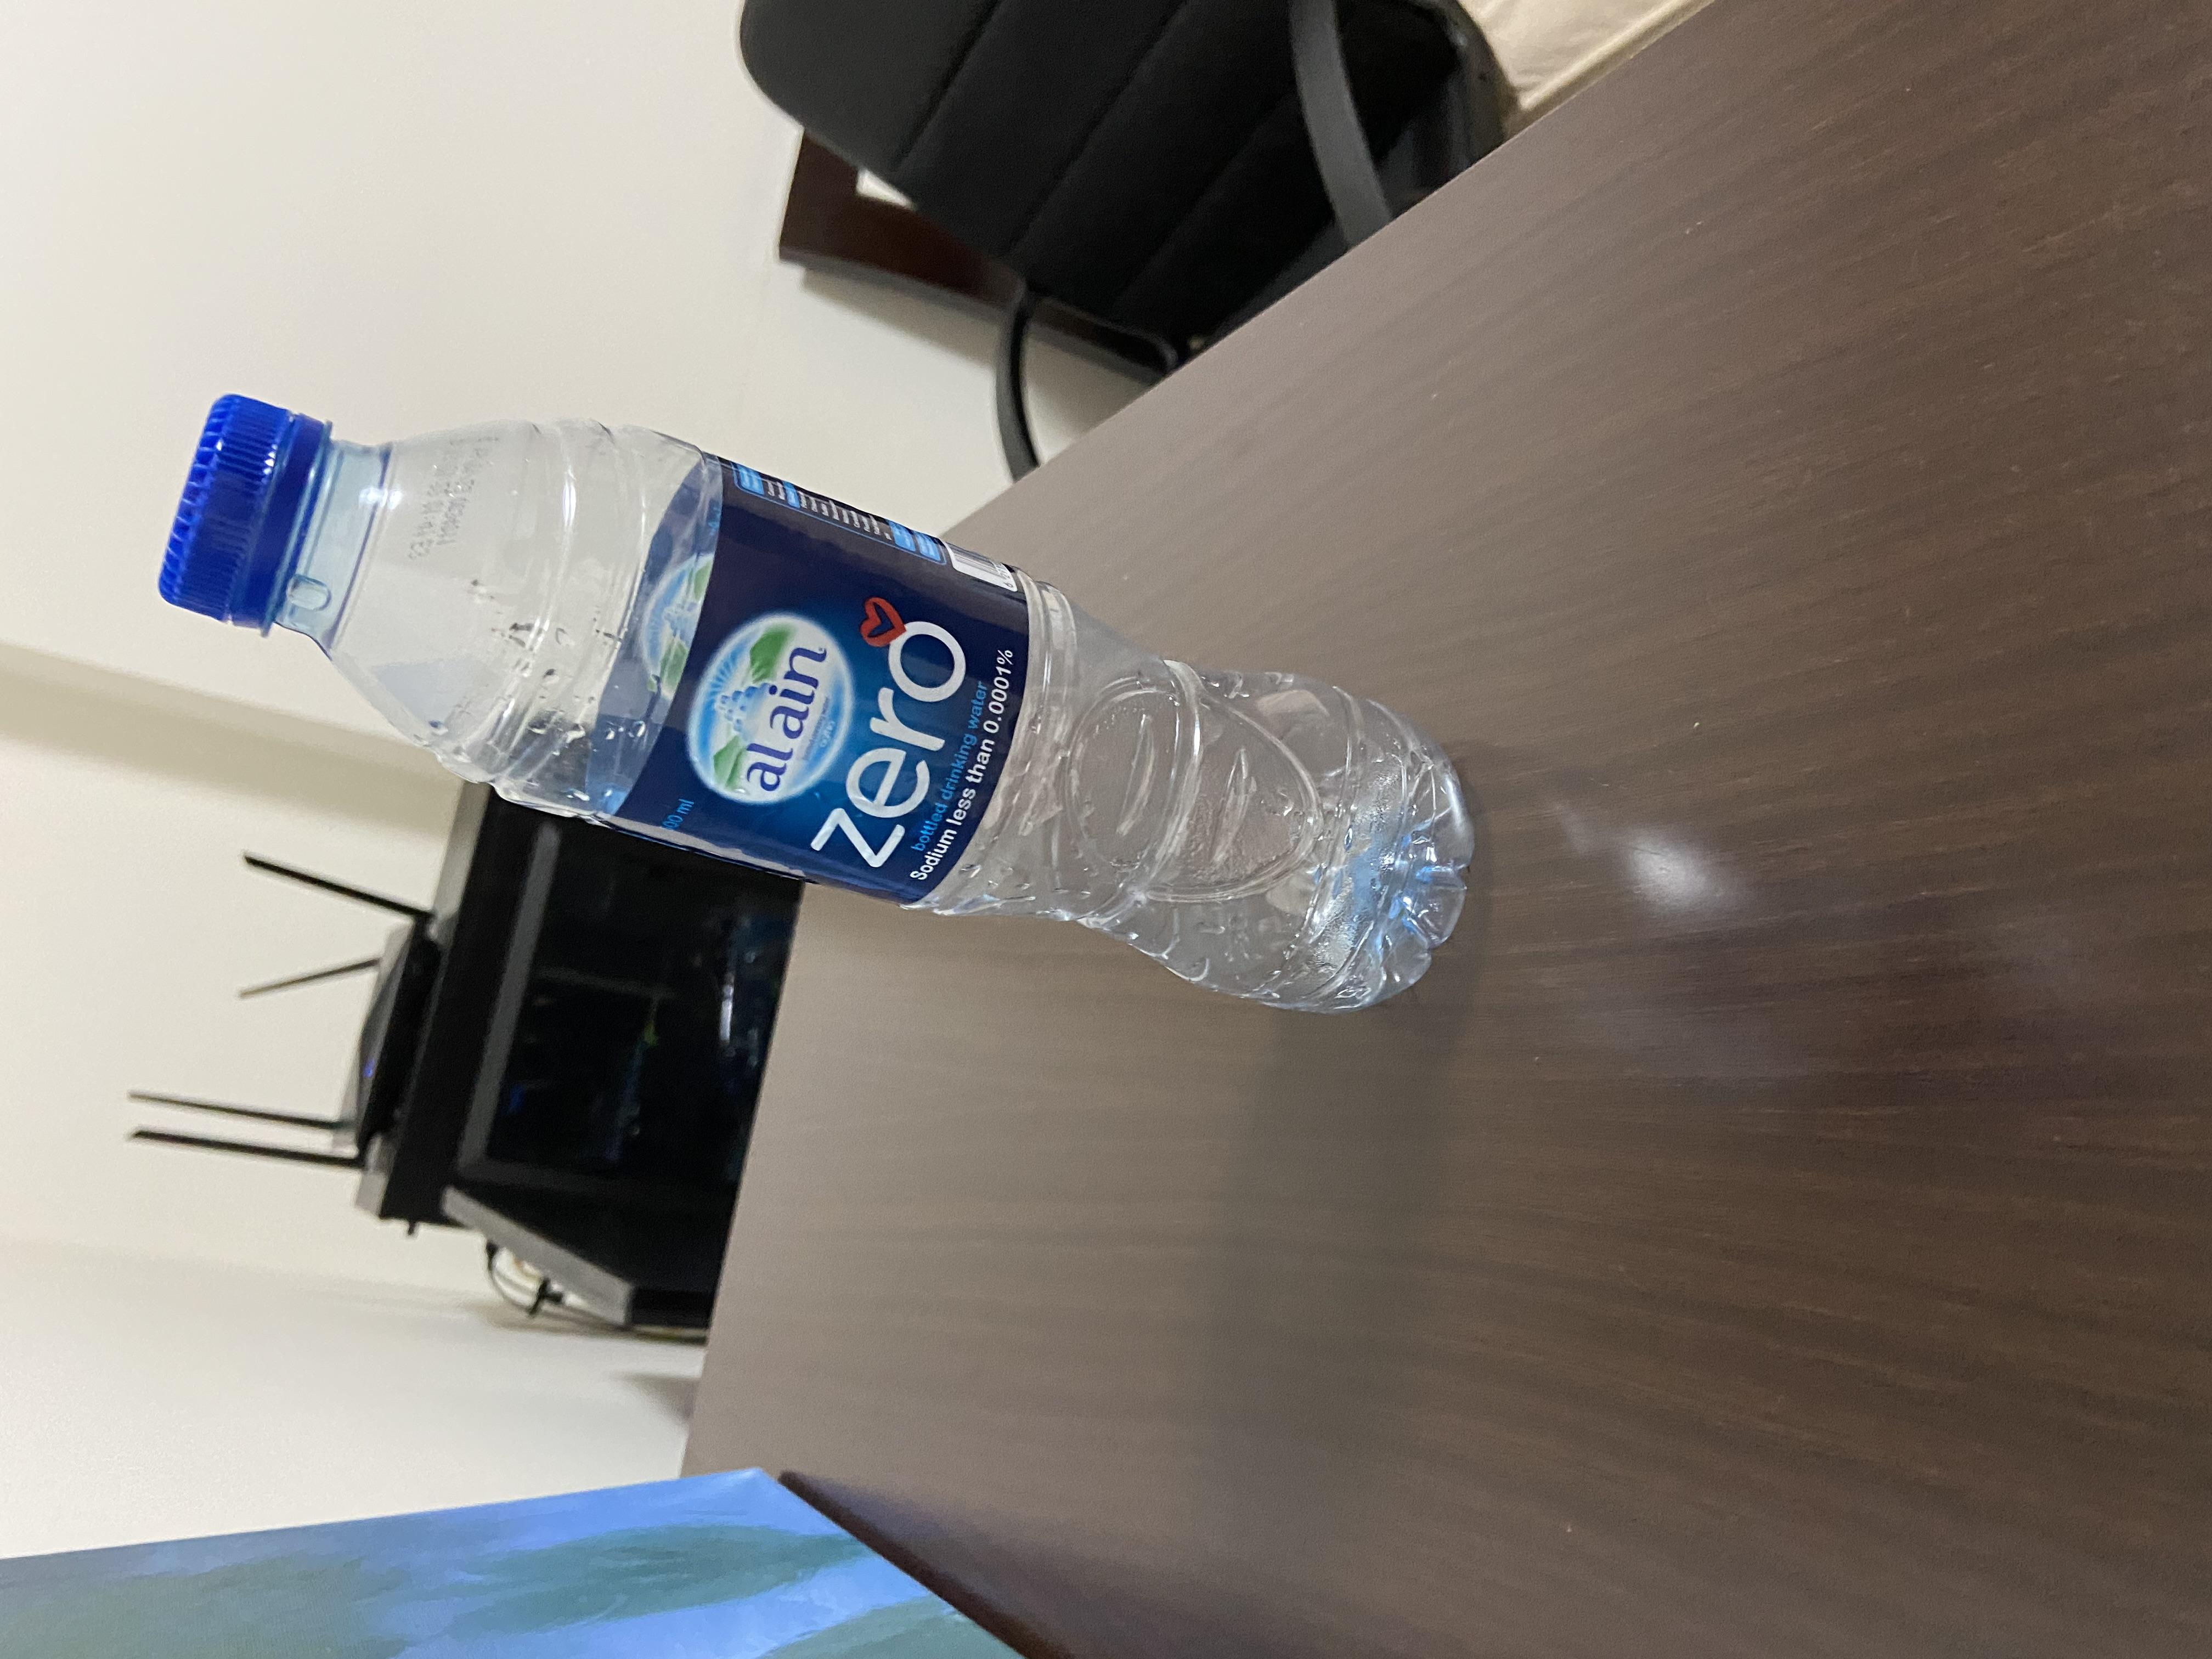bottle: (857, 103, 1707, 1141)
